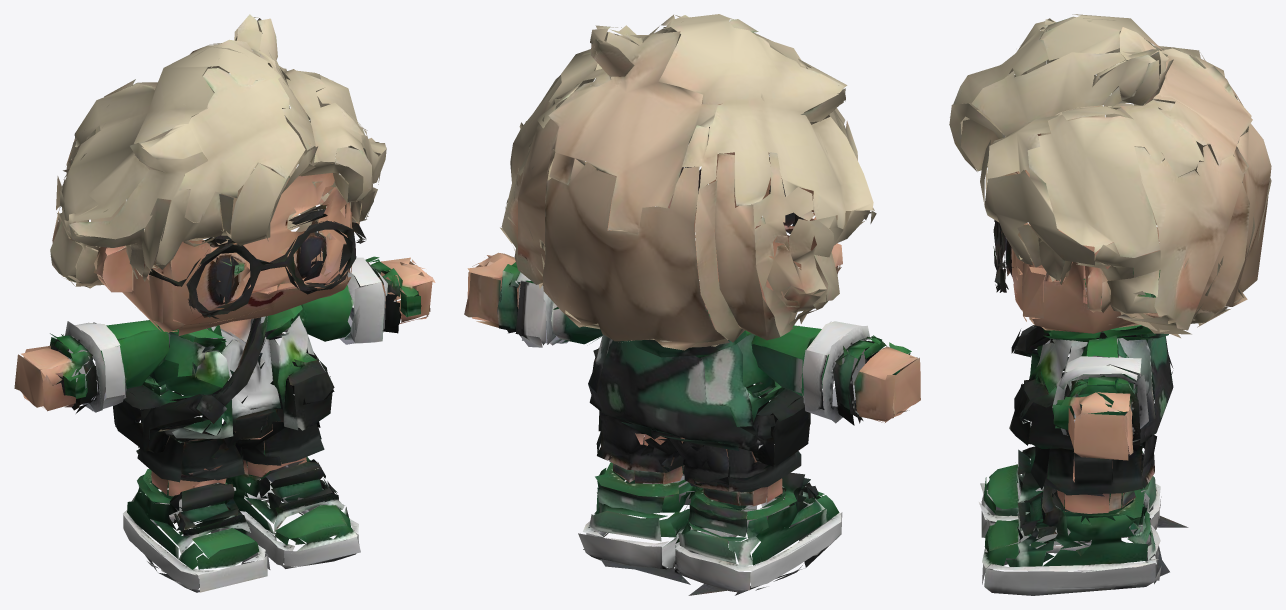
The model's file is neo_game.glb.
3 renders of one model, left to right at view 1: azimuth 30°, elevation 25°; view 2: azimuth 150°, elevation 25°; view 3: azimuth 270°, elevation 25°, orthographic. The views are drawn at different scales.
Parts seen in each view (by area): view 1: Body; view 2: Body; view 3: Body.
Part boxes in pixels (box(x1,y1,x2,y2)): Body: box(14, 14, 435, 592); Body: box(464, 14, 920, 595); Body: box(949, 14, 1271, 595).
Bounding box in the file's own units: 0.6085 × 0.7223 × 0.3978.
Materials: 1 (1 with a texture image).
